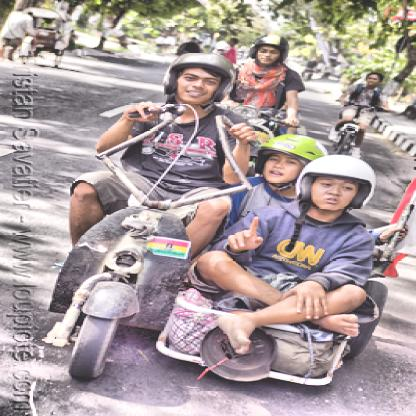wear: (165, 53, 234, 122), (246, 127, 314, 191), (297, 162, 379, 208), (249, 36, 286, 67)
